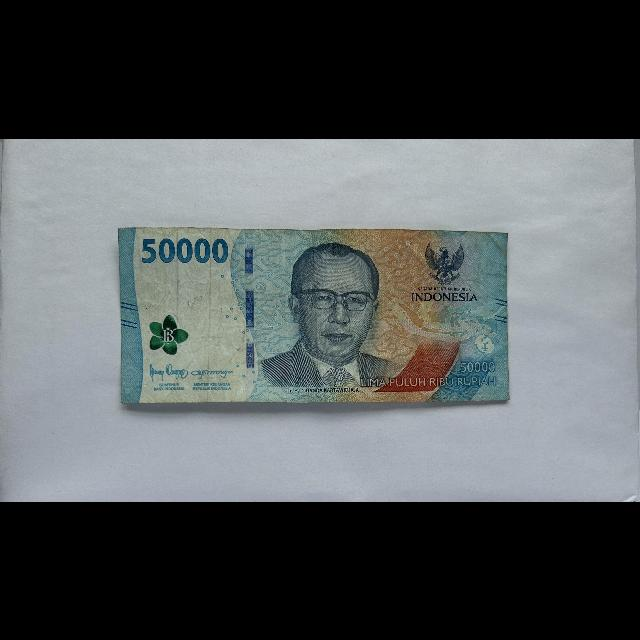Asli-50k: (117, 224, 512, 404)
Tinta-Asli-50k: (149, 313, 189, 355)
